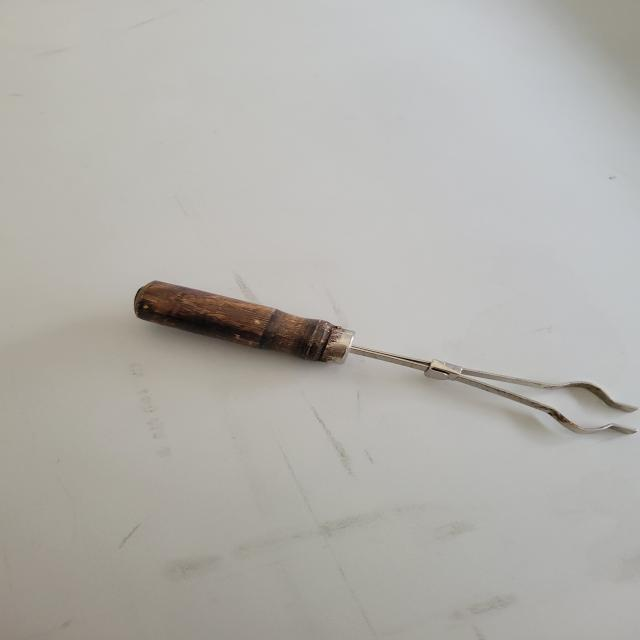TestTube_Holder: (106, 220, 640, 508)
